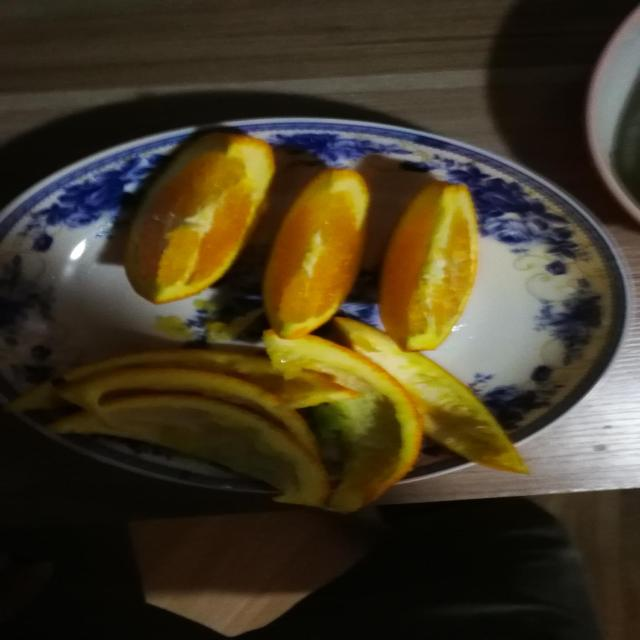Wet: (5, 316, 532, 515), (123, 131, 477, 351)
